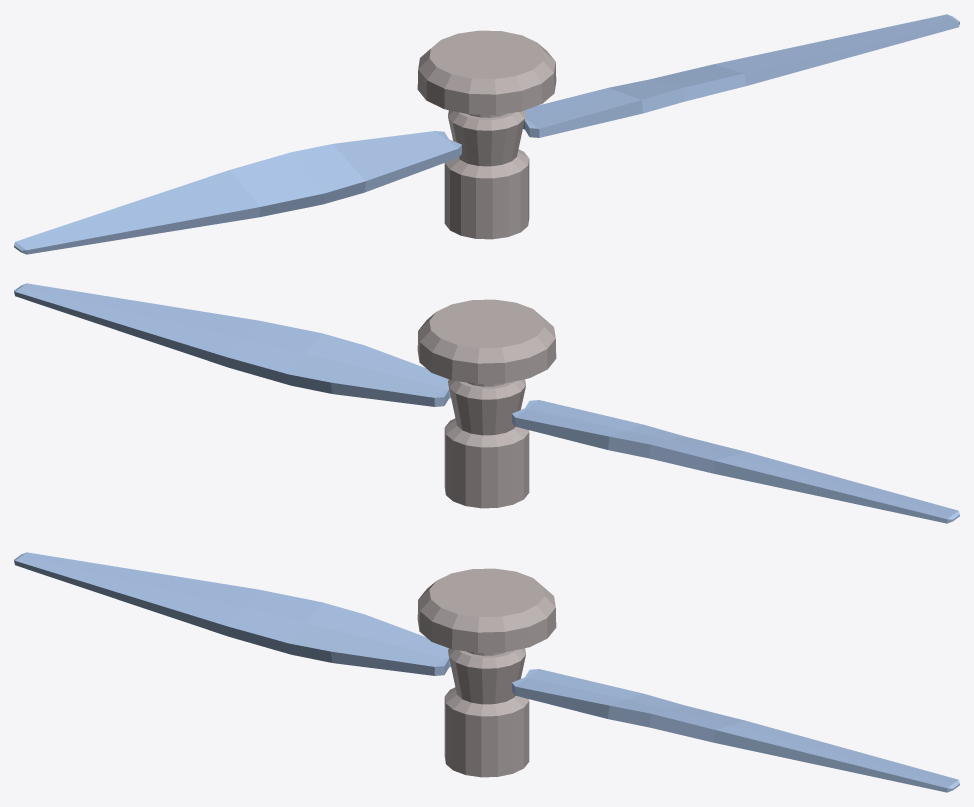
3 renders of one model, top to bottom at view 1: azimuth 30°, elevation 25°; view 2: azimuth 150°, elevation 25°; view 3: azimuth 330°, elevation 25°, orthographic.
Parts seen in each view (by area): view 1: 旋翼; view 2: 旋翼; view 3: 旋翼.
Part boxes in pixels (x1,y1,x2,y2): 旋翼: [14, 14, 959, 254]; 旋翼: [14, 283, 959, 523]; 旋翼: [14, 552, 959, 792].
Bounding box in the file's own units: 581 × 98.54 × 74.89.
